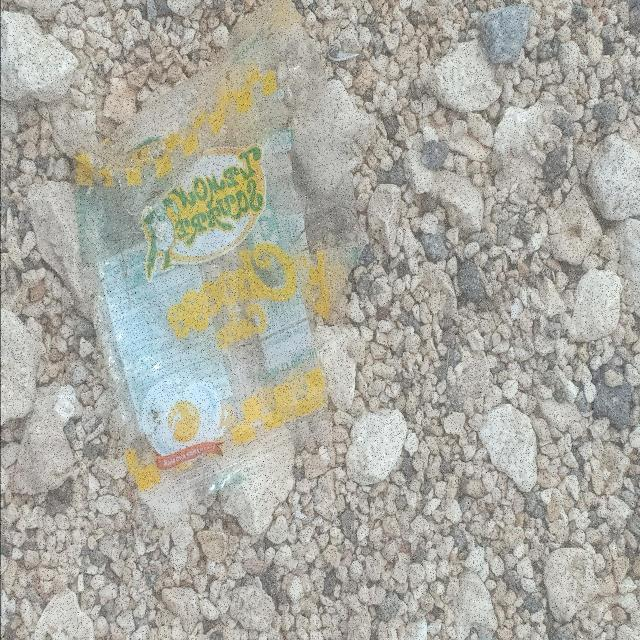plastic_waste: (68, 53, 331, 512)
